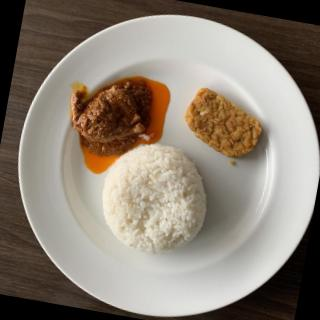Nasi: (95, 139, 216, 262)
